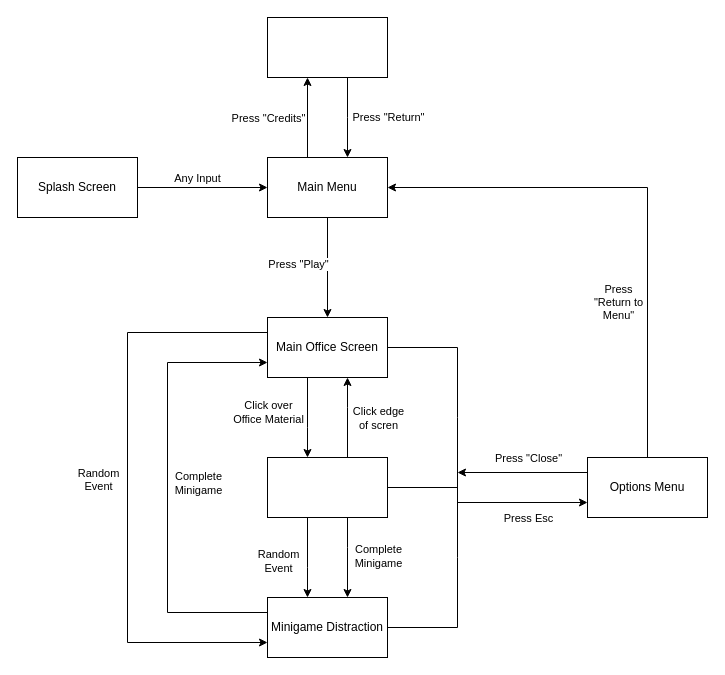
Image size: 725x675. Some labels were removed from this diagram. The shapes that lost their labels are listed below. From the top down, each one's centre as x and y in pixels, then its label:
pixel 327 47: Credits
pixel 327 487: Office SubScreens
